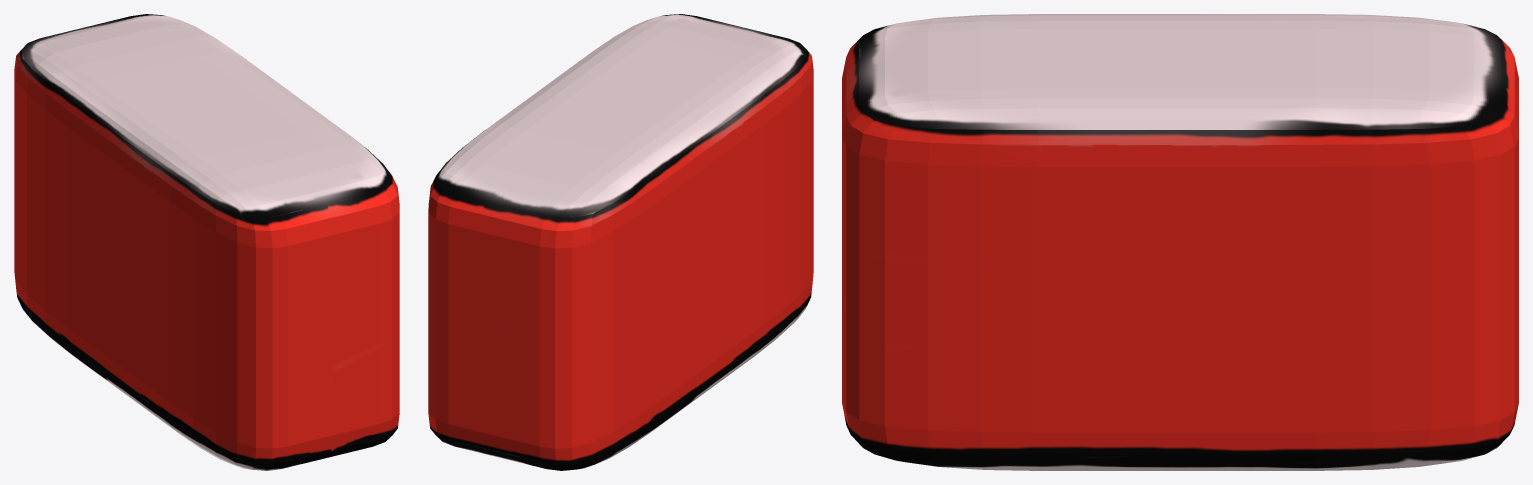
Rendered from top_bumper.obj.
3 views of the same model, side by side, from view 1: azimuth 30°, elevation 25°; view 2: azimuth 150°, elevation 25°; view 3: azimuth 270°, elevation 25° (orthographic). The views are drawn at different scales.
Visible parts, largest first — view 1: Rail_Bumper_Cube.002; view 2: Rail_Bumper_Cube.002; view 3: Rail_Bumper_Cube.002.
Boxes of the visible parts, bbox=[...] form: Rail_Bumper_Cube.002: bbox=[14, 14, 399, 470]; Rail_Bumper_Cube.002: bbox=[428, 14, 813, 470]; Rail_Bumper_Cube.002: bbox=[842, 14, 1518, 470].
Size of the model in its own units: 1.36 by 2 by 3.34.
1 material, 1 textured.
